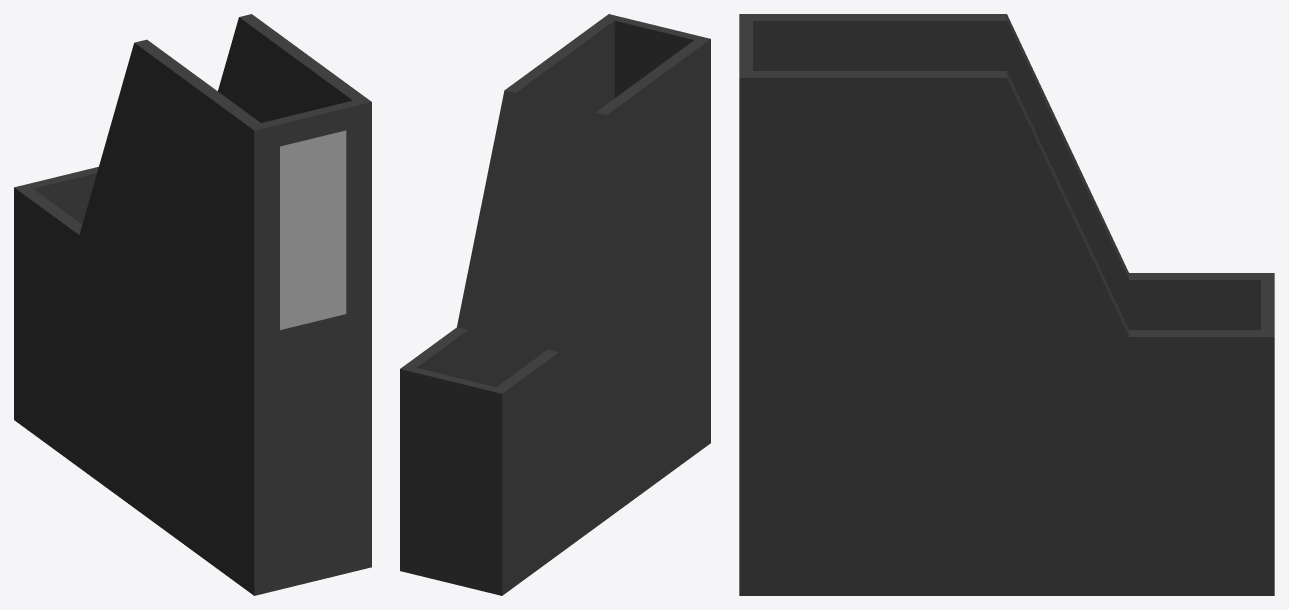
The model's file is FileHolderV2Black.fbx.
3 views of the same model, side by side, from view 1: azimuth 30°, elevation 25°; view 2: azimuth 150°, elevation 25°; view 3: azimuth 270°, elevation 25° (orthographic). The views are drawn at different scales.
Visible parts, largest first — view 1: FileHolderV2Black; view 2: FileHolderV2Black; view 3: FileHolderV2Black.
Part boxes in pixels (box(x1,y1,x2,y2)): FileHolderV2Black: box(14, 14, 371, 595); FileHolderV2Black: box(400, 14, 710, 595); FileHolderV2Black: box(739, 14, 1274, 595).
Bounding box in the file's own units: 7.39 × 27.94 × 26.15.
